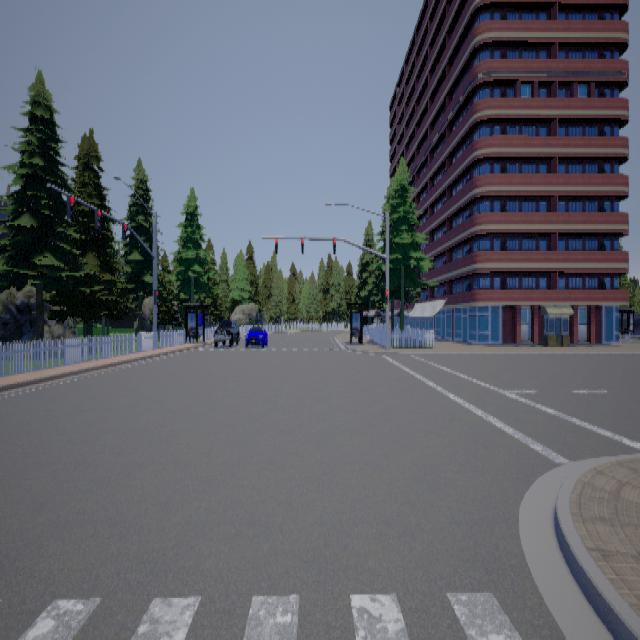red_light: (66, 194, 74, 219), (94, 208, 101, 230), (121, 221, 127, 239), (153, 288, 158, 303), (332, 236, 336, 254), (300, 237, 304, 254), (274, 235, 277, 252), (384, 288, 387, 303)
vehicle: (212, 317, 239, 345), (243, 322, 268, 347)
